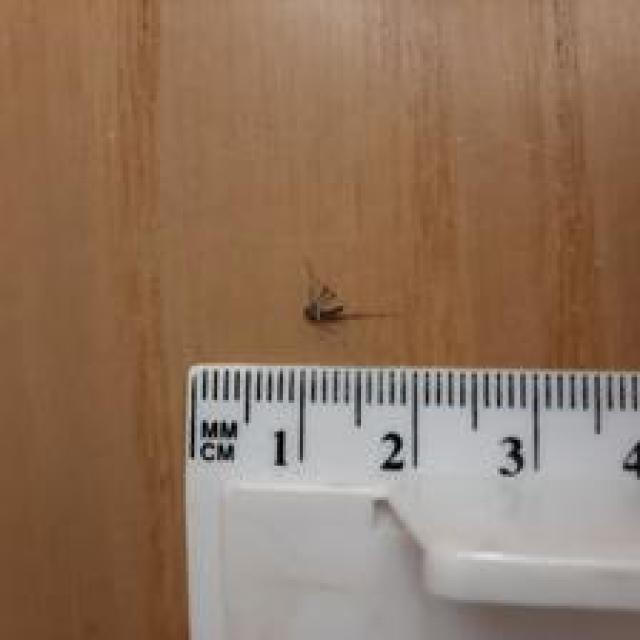Aedes albopictus: (303, 282, 394, 324)
